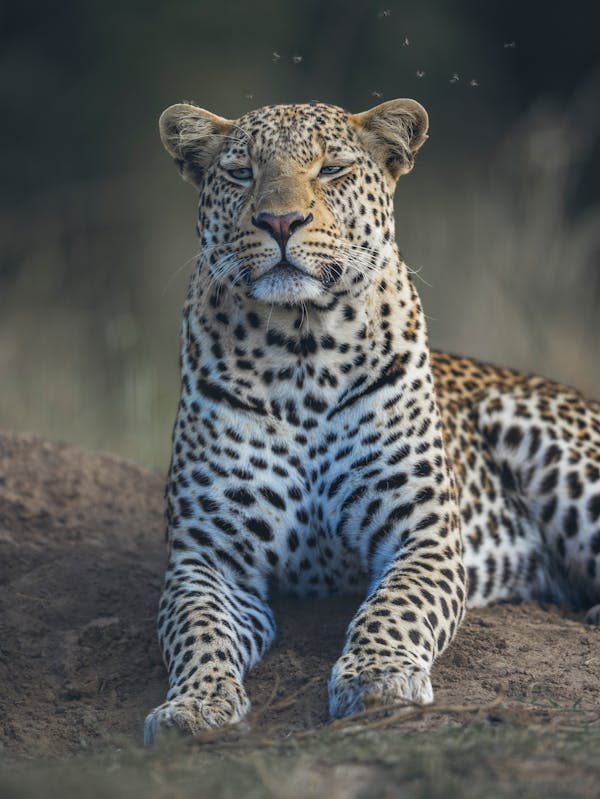Leopard: (138, 96, 600, 743)
